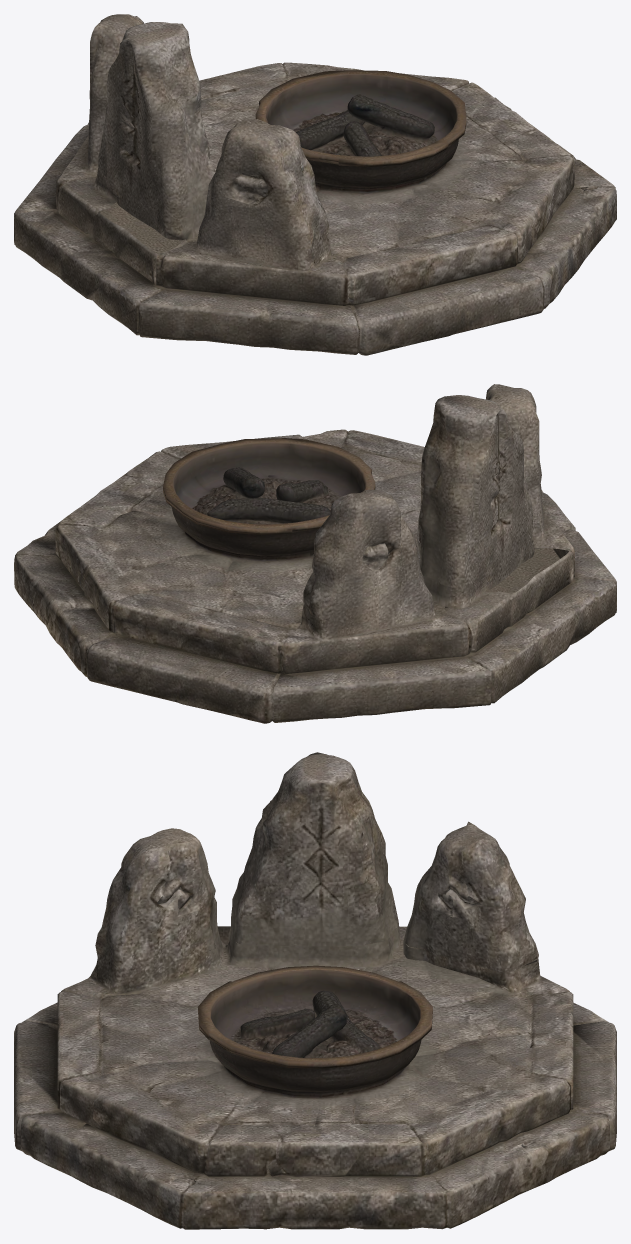
File: ocak-sv1.glb
3 views of the same model, one above another, from view 1: azimuth 30°, elevation 25°; view 2: azimuth 150°, elevation 25°; view 3: azimuth 270°, elevation 25° (orthographic). The views are drawn at different scales.
Parts seen in each view (by area): view 1: tripo_node_c7294c07-88ff-4d38-a1cc-ec2f762de581; view 2: tripo_node_c7294c07-88ff-4d38-a1cc-ec2f762de581; view 3: tripo_node_c7294c07-88ff-4d38-a1cc-ec2f762de581.
Part boxes in pixels (x1,y1,x2,y2): tripo_node_c7294c07-88ff-4d38-a1cc-ec2f762de581: (14,14,616,355); tripo_node_c7294c07-88ff-4d38-a1cc-ec2f762de581: (14,384,616,723); tripo_node_c7294c07-88ff-4d38-a1cc-ec2f762de581: (14,752,616,1229).
Bounding box in the file's own units: 0.9902 × 0.4658 × 1.
1 material, 1 textured.
